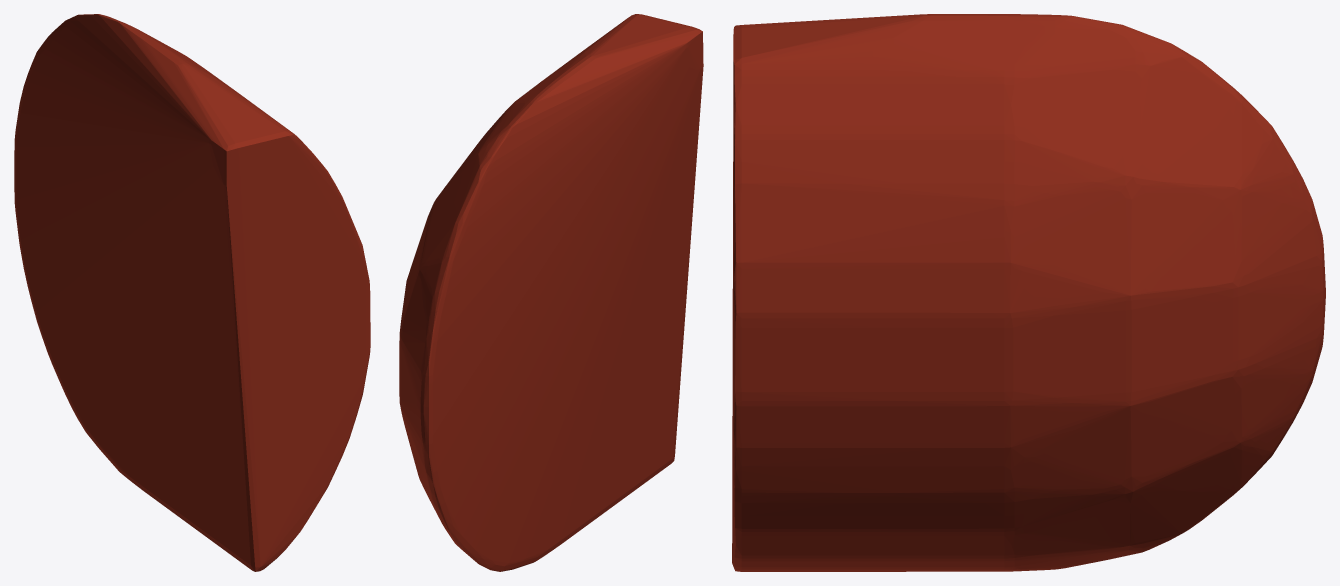
Rendered from left_f_proximal_part_15.obj.
3 views of the same model, side by side, from view 1: azimuth 30°, elevation 25°; view 2: azimuth 150°, elevation 25°; view 3: azimuth 270°, elevation 25° (orthographic). The views are drawn at different scales.
Bounding box in the file's own units: 5.21 × 15.55 × 15.08.
